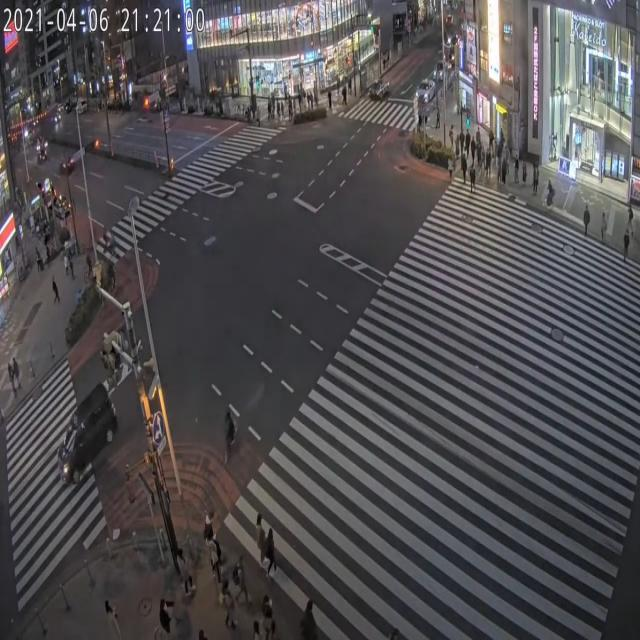humans: (171, 544, 192, 596), (218, 570, 235, 633), (228, 555, 249, 605), (259, 587, 278, 640), (198, 507, 216, 559), (225, 405, 238, 474), (206, 535, 222, 587), (255, 513, 267, 569), (266, 524, 278, 574), (532, 158, 540, 201), (447, 152, 455, 186), (547, 176, 554, 213), (582, 206, 590, 236), (465, 128, 473, 156), (628, 201, 634, 237), (464, 129, 470, 161), (624, 228, 629, 266), (454, 129, 460, 160), (601, 209, 606, 242), (462, 153, 467, 186), (471, 158, 476, 190), (497, 153, 502, 185), (476, 138, 481, 170), (486, 148, 490, 182), (514, 158, 519, 184), (522, 160, 527, 186), (480, 148, 484, 180), (502, 157, 506, 186), (476, 128, 481, 151), (450, 123, 454, 150)
